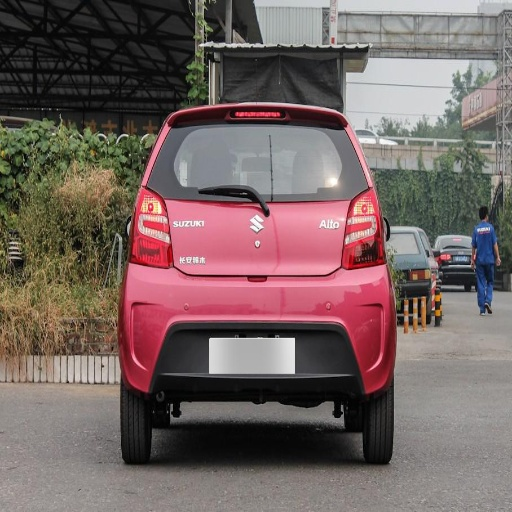back_bumper: (126, 263, 391, 396)
trunk: (164, 172, 363, 313)
